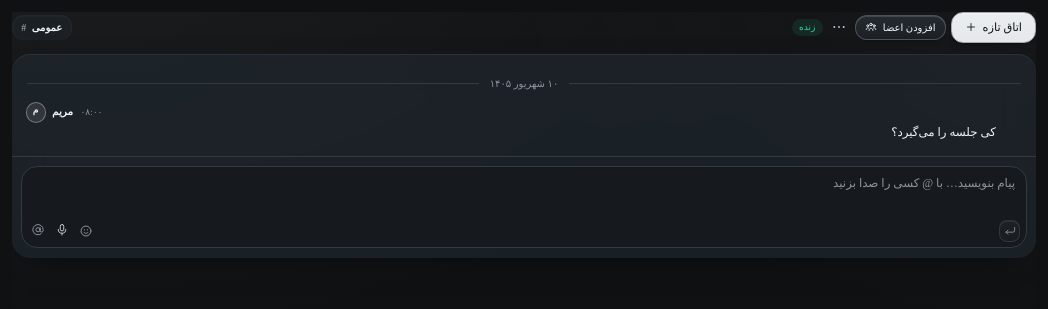
Scenario: answering a message › quotes it in the composer and posts the answer WITH its parent
Right-click the text "کی جلسه را می‌گیرد؟".
right_click(944, 132)  # box [891, 124, 996, 138]
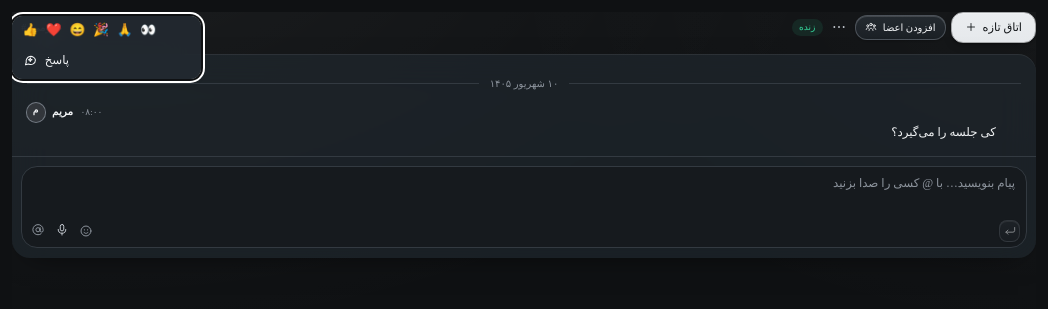
Click the menu item "پاسخ".
click(46, 60)  # box [23, 52, 69, 68]
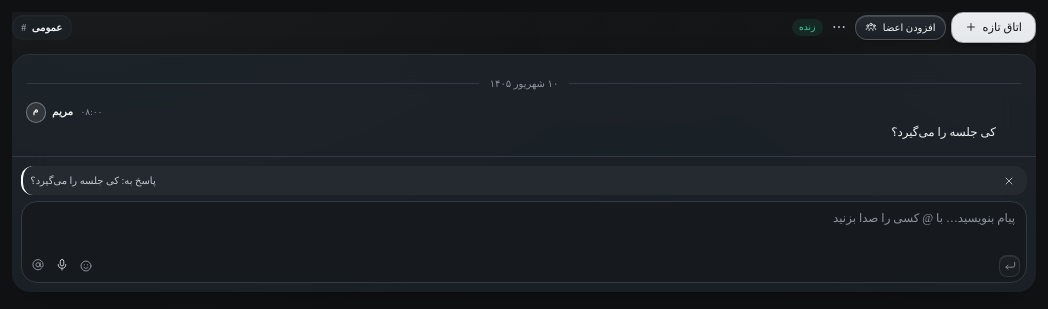
Expected: the text "پاسخ به: کی جلسه را می‌گیرد؟" is shown, [30, 175, 156, 186]
Type "من می‌گیرم" into the text box with placeholder "پیام بنویسید… با @ کسی را صدا بزنید".
click(524, 225); type("من می‌گیرم")  # box [22, 202, 1026, 248]
Then press Enter
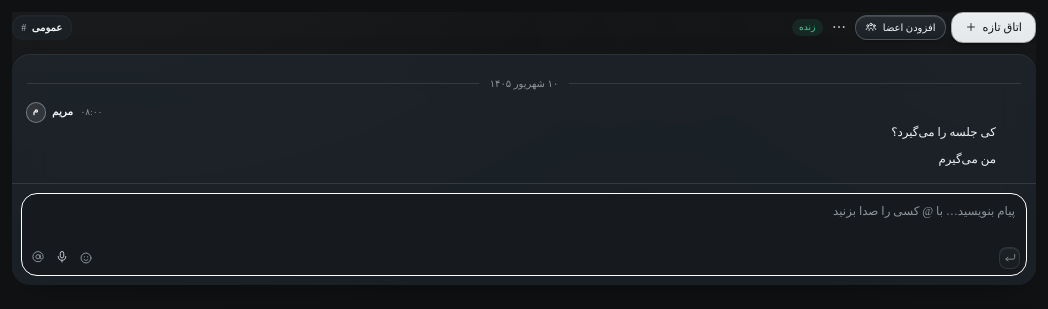
Expected: the text "پاسخ به" is gone
